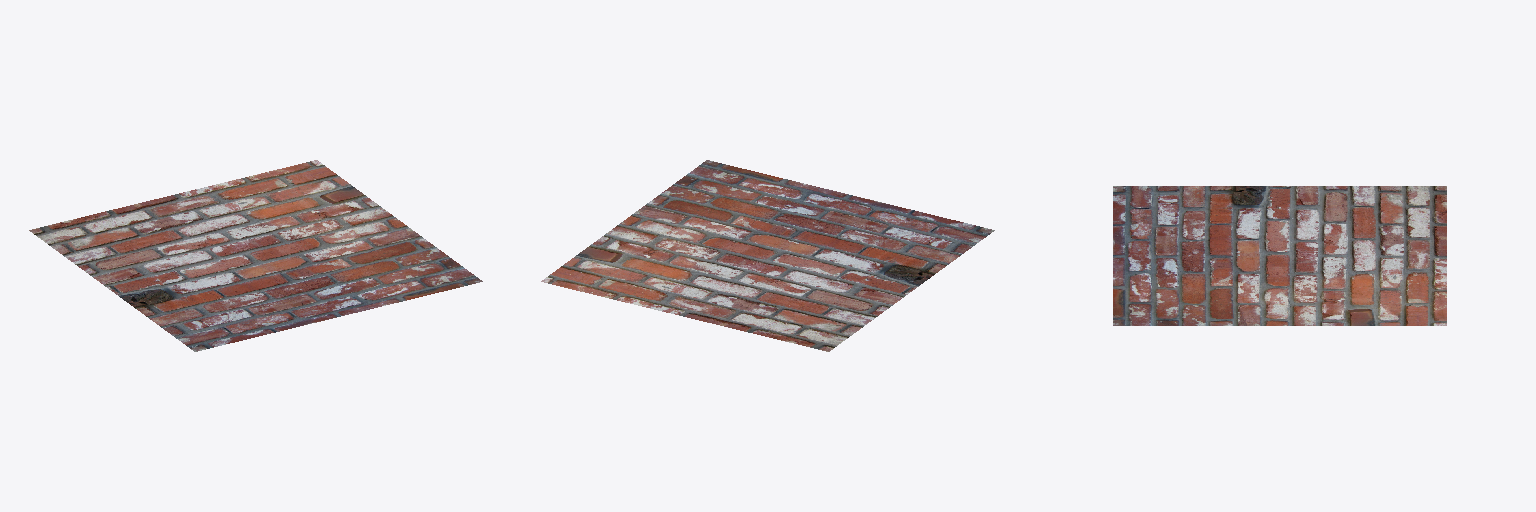
3 views of the same model, side by side, from view 1: azimuth 30°, elevation 25°; view 2: azimuth 150°, elevation 25°; view 3: azimuth 270°, elevation 25° (orthographic).
Parts seen in each view (by area): view 1: pPlane1; view 2: pPlane1; view 3: pPlane1.
Boxes of the visible parts, x1,y1,x2,y2 form: pPlane1: [29, 160, 482, 351]; pPlane1: [541, 160, 994, 351]; pPlane1: [1113, 186, 1446, 325].
Size of the model in its own units: 20.49 by 0 by 20.49.
Materials: 1 (1 with a texture image).